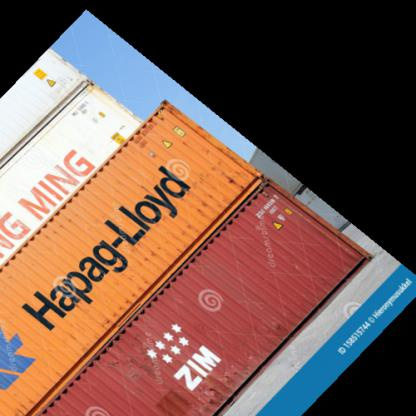Damage: (191, 118, 256, 168)
